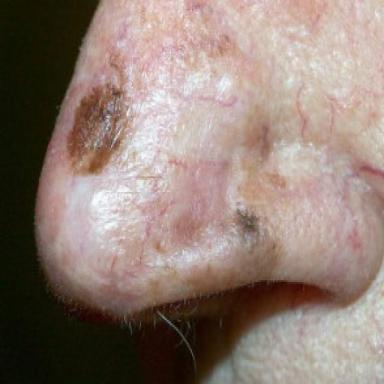Melanoma: (65, 82, 128, 177)
